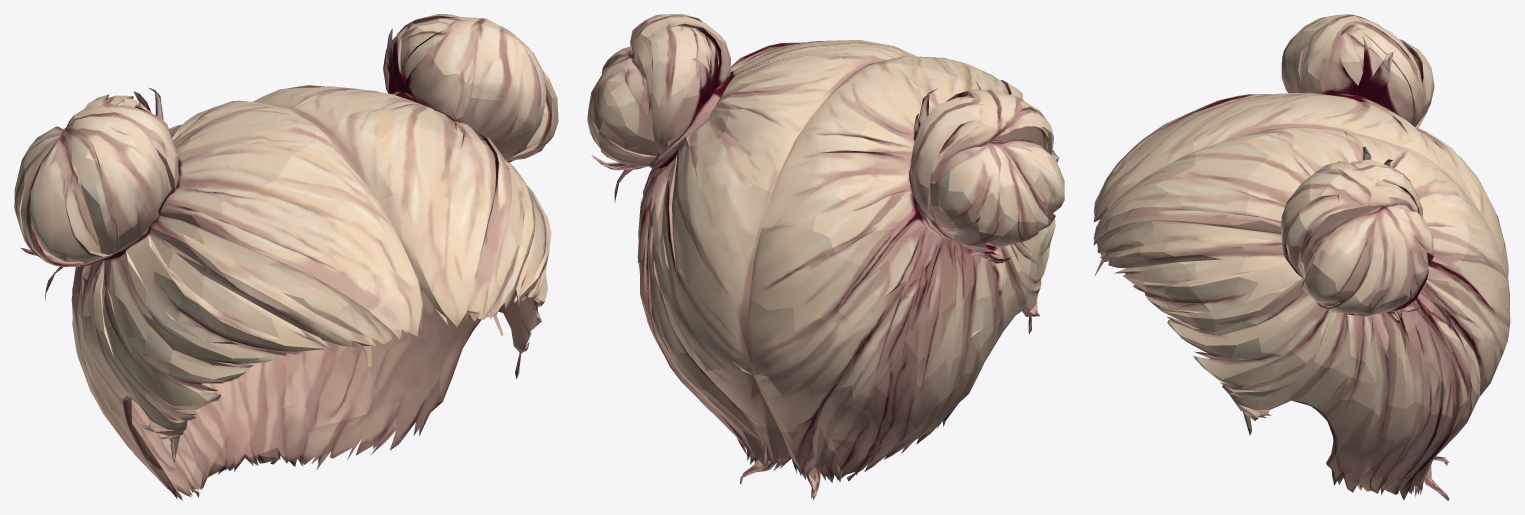
Rendered from fennal_f-deux-chignons.glb.
3 renders of one model, left to right at view 1: azimuth 30°, elevation 25°; view 2: azimuth 150°, elevation 25°; view 3: azimuth 270°, elevation 25°, orthographic. The views are drawn at different scales.
Visible parts, largest first — view 1: geometry_0; view 2: geometry_0; view 3: geometry_0.
Boxes of the visible parts, bbox=[...] form: geometry_0: bbox=[14, 14, 558, 500]; geometry_0: bbox=[587, 14, 1064, 500]; geometry_0: bbox=[1093, 14, 1510, 500].
Size of the model in its own units: 1.9 by 1.6 by 1.54.
Materials: 1 (1 with a texture image).
